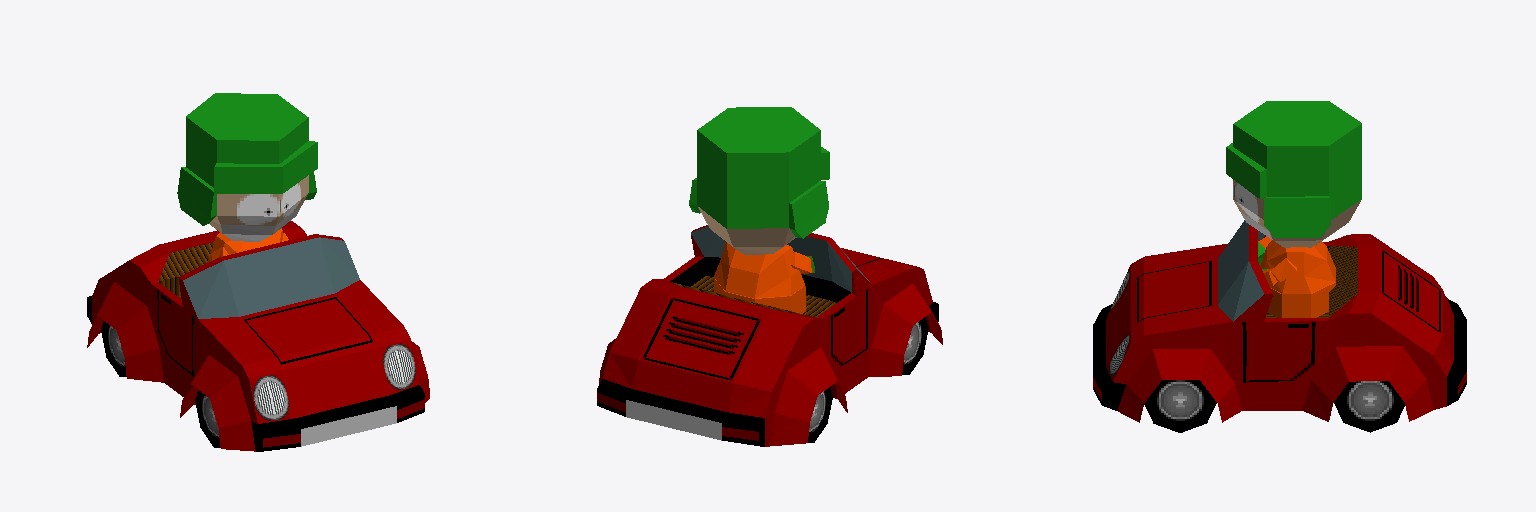
3 renders of one model, left to right at view 1: azimuth 30°, elevation 25°; view 2: azimuth 150°, elevation 25°; view 3: azimuth 270°, elevation 25°, orthographic.
Parts seen in each view (by area): view 1: DrawCall_104, DrawCall_57, DrawCall_66, DrawCall_63, DrawCall_60, DrawCall_61, DrawCall_56, DrawCall_103, DrawCall_54, DrawCall_86, DrawCall_59, DrawCall_94 (+1 smaller); view 2: DrawCall_66, DrawCall_104, DrawCall_58, DrawCall_94, DrawCall_63, DrawCall_56, DrawCall_61, DrawCall_57, DrawCall_106, DrawCall_54, DrawCall_86, DrawCall_60 (+1 smaller); view 3: DrawCall_66, DrawCall_104, DrawCall_60, DrawCall_56, DrawCall_57, DrawCall_86, DrawCall_94, DrawCall_61, DrawCall_58, DrawCall_63, DrawCall_59, DrawCall_106 (+1 smaller).
Part boxes in pixels (x1,y1,x2,y2): DrawCall_104: (177, 93, 317, 225); DrawCall_57: (198, 317, 419, 423); DrawCall_66: (87, 221, 429, 451); DrawCall_63: (183, 237, 359, 318); DrawCall_60: (99, 234, 403, 404); DrawCall_61: (87, 296, 424, 451); DrawCall_56: (147, 282, 208, 377); DrawCall_103: (217, 175, 308, 225); DrawCall_54: (301, 406, 396, 446); DrawCall_86: (101, 321, 220, 447); DrawCall_59: (158, 239, 289, 298); DrawCall_94: (207, 228, 288, 262); DrawCall_66: (599, 279, 942, 446); DrawCall_104: (689, 107, 829, 238); DrawCall_58: (638, 295, 764, 382); DrawCall_94: (714, 242, 812, 313); DrawCall_63: (670, 226, 869, 302); DrawCall_56: (664, 257, 883, 370); DrawCall_61: (597, 302, 938, 446); DrawCall_57: (858, 259, 932, 332); DrawCall_106: (698, 207, 814, 272); DrawCall_54: (626, 400, 721, 440); DrawCall_86: (808, 317, 928, 442); DrawCall_60: (691, 225, 883, 398); DrawCall_66: (1118, 234, 1453, 422); DrawCall_104: (1226, 101, 1361, 237); DrawCall_60: (1131, 225, 1401, 346); DrawCall_56: (1211, 242, 1335, 383); DrawCall_57: (1106, 244, 1232, 383); DrawCall_86: (1144, 380, 1404, 432); DrawCall_94: (1258, 236, 1335, 317); DrawCall_61: (1093, 298, 1466, 410); DrawCall_58: (1380, 247, 1442, 335); DrawCall_63: (1218, 220, 1328, 321); DrawCall_59: (1266, 246, 1357, 317); DrawCall_106: (1258, 200, 1360, 270).
Size of the model in its own units: 35.26 by 42.43 by 54.16.
11 materials, 9 textured.